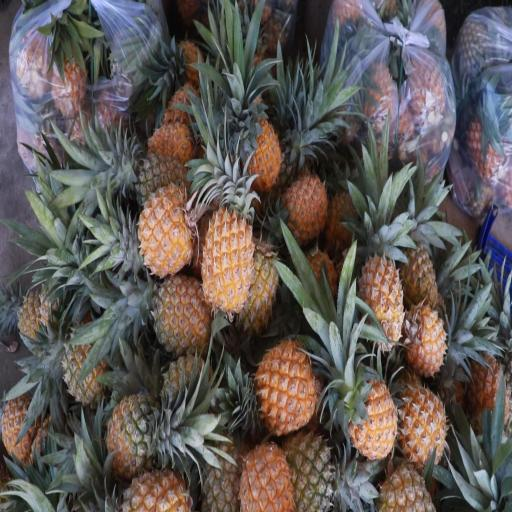------------------------------: (98, 388, 176, 484), (278, 416, 344, 512), (192, 410, 244, 511), (121, 143, 187, 216), (59, 323, 111, 408), (371, 454, 438, 512)
Pineapple - v8 v1: (250, 325, 316, 428), (142, 262, 212, 358), (201, 193, 254, 318), (133, 180, 196, 280), (357, 237, 406, 360), (390, 372, 448, 469), (233, 220, 279, 334), (342, 372, 399, 464), (110, 452, 191, 512), (234, 431, 292, 512), (278, 164, 332, 248), (398, 223, 443, 316), (401, 296, 451, 379), (242, 114, 285, 198)
